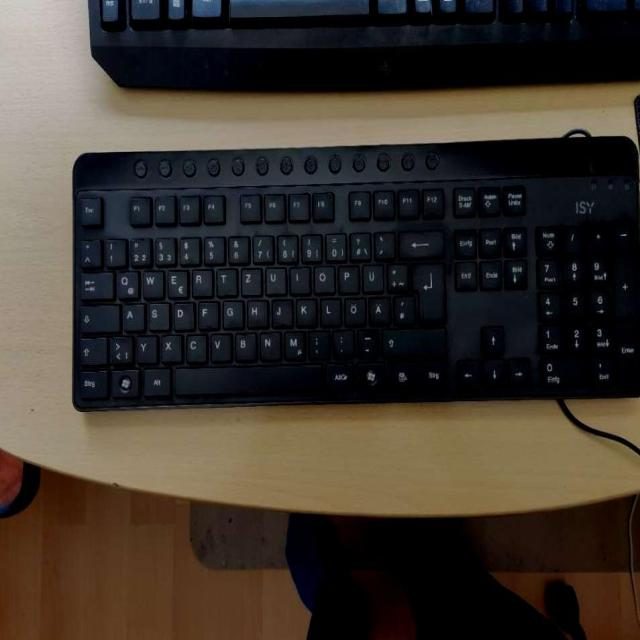0: (323, 229, 345, 259)
1: (103, 235, 124, 265)
2: (127, 235, 149, 264)
3: (152, 233, 174, 263)
4: (176, 233, 198, 262)
5: (201, 232, 223, 262)
6: (226, 232, 248, 262)
7: (250, 231, 272, 261)
8: (274, 231, 296, 260)
9: (299, 231, 321, 259)
a: (120, 299, 143, 330)
accent: (372, 228, 393, 256)
ae: (367, 292, 389, 323)
alt-left: (140, 364, 170, 395), (190, 0, 222, 18)
altgr-right: (324, 358, 353, 389), (376, 0, 408, 16)
b: (232, 329, 254, 358)
c: (183, 330, 205, 360)
caret: (78, 236, 99, 265)
comma: (307, 327, 328, 356)
d: (170, 299, 192, 328)
del: (396, 226, 442, 257)
e: (164, 265, 186, 296)
enter: (410, 258, 444, 321)
f: (195, 298, 217, 326)
g: (220, 297, 242, 326)
h: (244, 296, 266, 325)
hash: (391, 292, 413, 321)
i: (287, 263, 308, 291)
j: (269, 295, 290, 324)
k: (293, 295, 315, 324)
keyboard: (68, 135, 640, 415), (86, 0, 640, 43)
l: (318, 294, 339, 324)
less: (107, 333, 131, 362)
m: (281, 327, 303, 358)
minus: (355, 325, 376, 355)
n: (257, 328, 279, 358)
o: (311, 262, 333, 291)
oe: (342, 294, 364, 324)
p: (335, 261, 357, 291)
plus: (384, 259, 406, 290)
point: (331, 326, 352, 355)
q: (114, 267, 137, 297)
r: (189, 265, 212, 295)
s: (145, 299, 168, 328)
shift-left: (76, 334, 104, 362)
shift-lock: (78, 301, 118, 331)
shift-right: (379, 324, 445, 353)
space: (171, 361, 321, 393), (226, 0, 371, 17)
ss: (347, 229, 369, 258)
strg-left: (74, 366, 107, 398), (128, 0, 160, 18)
strg-right: (417, 357, 447, 387), (462, 0, 494, 13)
t: (213, 264, 235, 293)
tab: (78, 268, 111, 297)
u: (263, 263, 285, 292)
ue: (360, 260, 382, 291)
v: (208, 329, 230, 359)
w: (139, 265, 162, 296)
x: (158, 331, 180, 360)
y: (133, 332, 155, 361)
z: (238, 264, 260, 293)
